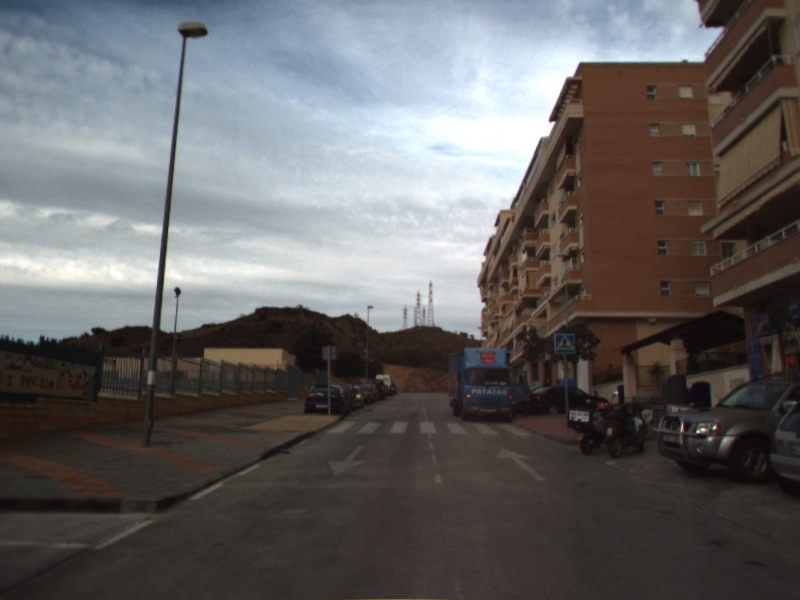STRAIGHT: (495, 446, 549, 483)
